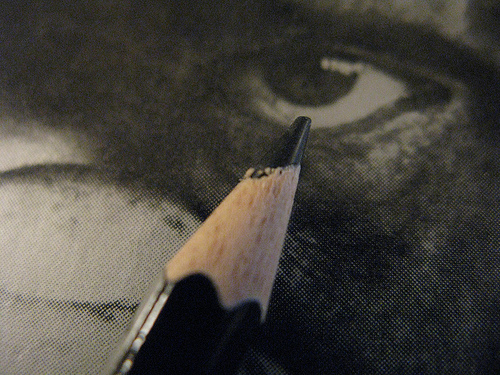pen_tip: (157, 114, 331, 328)
